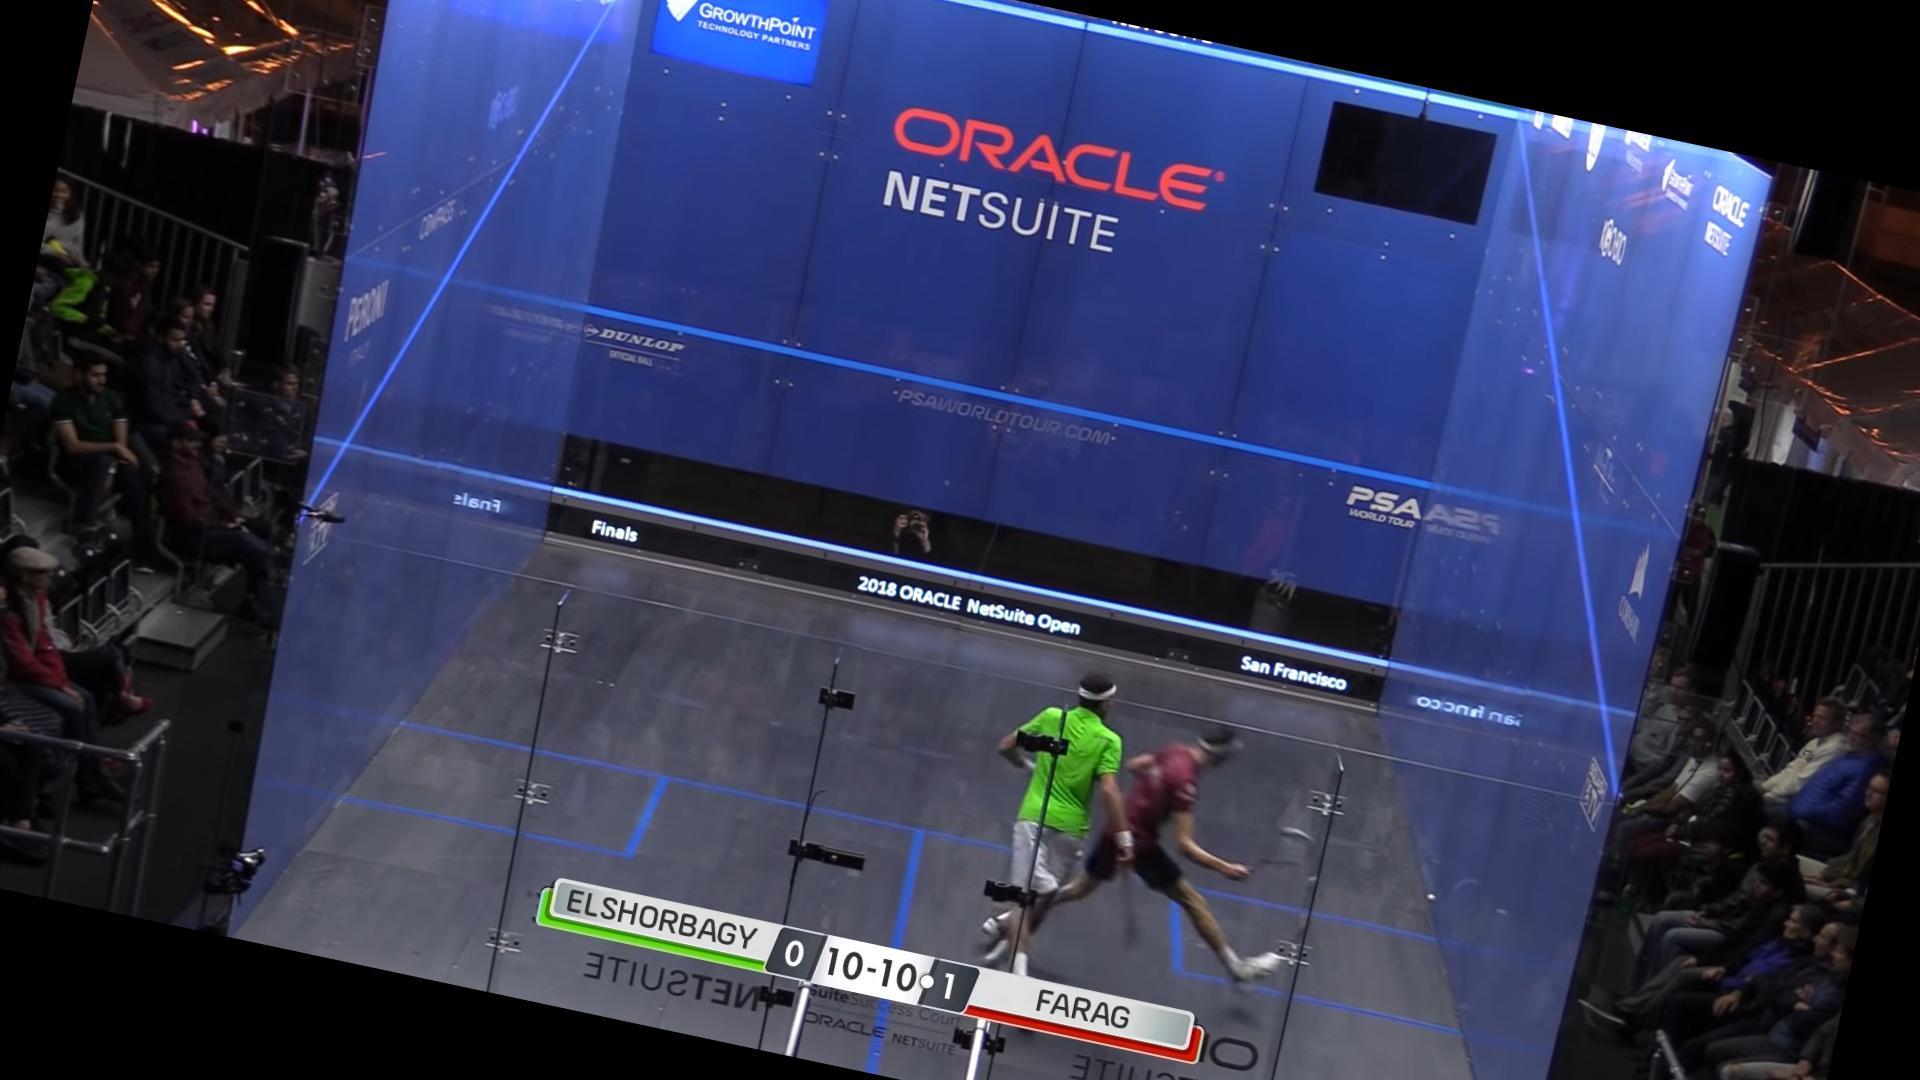Squash-Ball: (1422, 882, 1445, 909)
